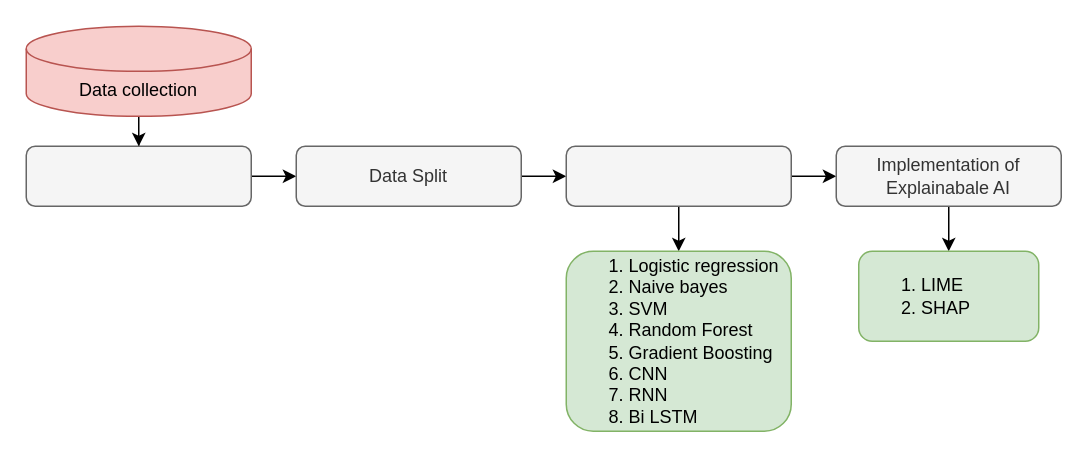
The diagram is 1088 pixels wide and 471 high, and some of its shapes have lost their labels. Each missing label, with the centre of its shape:
"Classification Modelling" belongs at pixel 678 175.
"Pre-processing" belongs at pixel 138 175.
